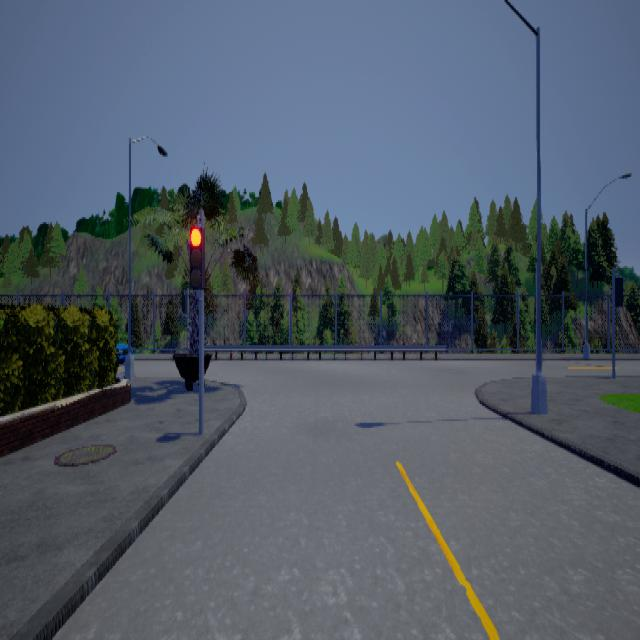red_light: (191, 214, 206, 300)
